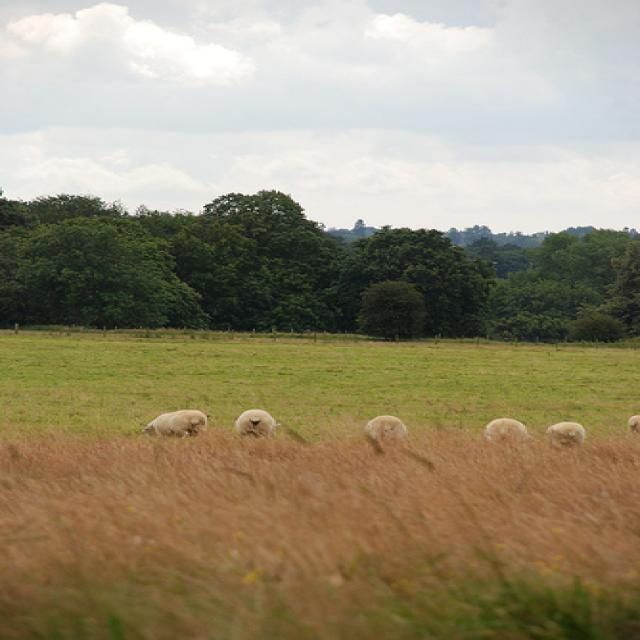sheep: (139, 408, 210, 439), (359, 415, 411, 445), (484, 417, 530, 448), (233, 408, 277, 439), (546, 421, 588, 450)
